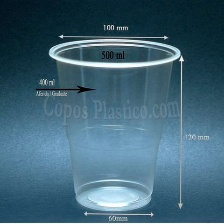glass: (45, 35, 185, 214)
